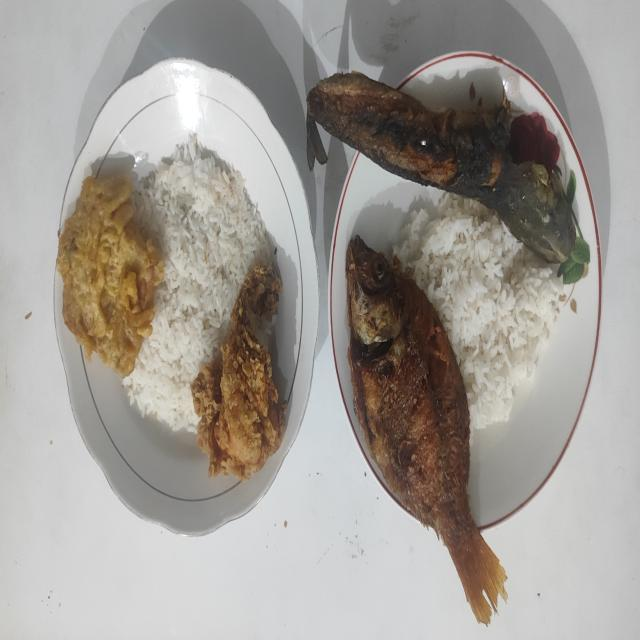ikan_mujair: (346, 236, 508, 624)
nasi_putih: (123, 134, 274, 432), (392, 193, 562, 429)
